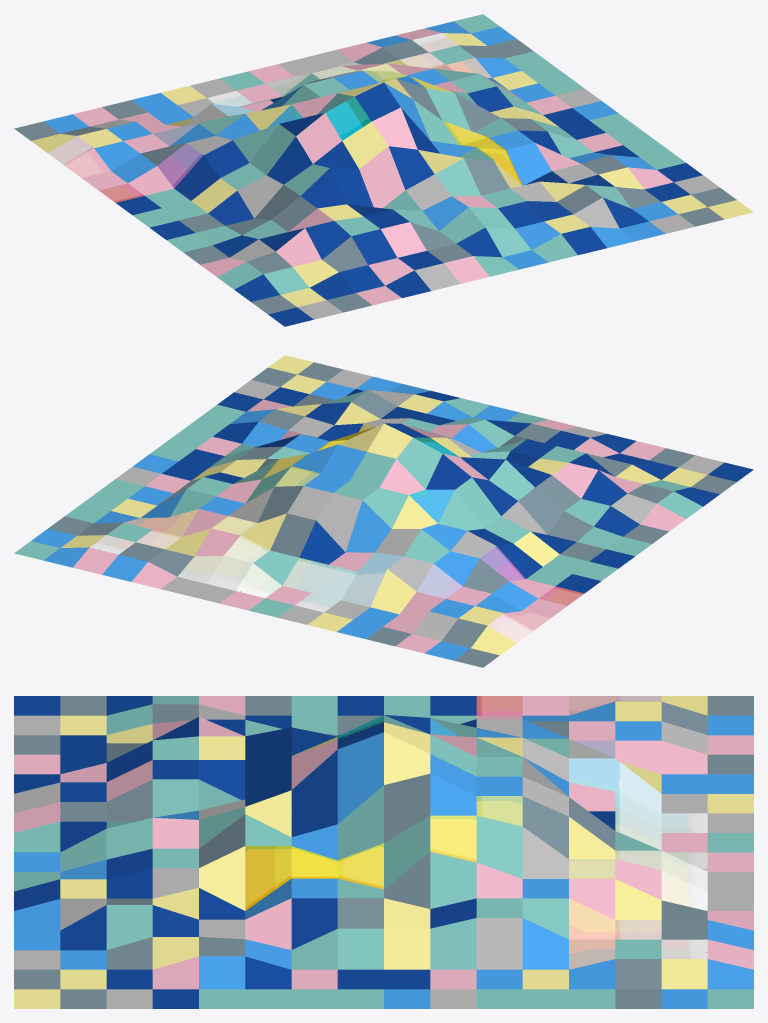
The model's file is terrain_level4.glb.
3 renders of one model, top to bottom at view 1: azimuth 30°, elevation 25°; view 2: azimuth 150°, elevation 25°; view 3: azimuth 270°, elevation 25°, orthographic. The views are drawn at different scales.
Visible parts, largest first — view 1: Plane; view 2: Plane; view 3: Plane.
Part boxes in pixels (left/top/right/bottom): Plane: left=14, top=14, right=753, bottom=326; Plane: left=14, top=355, right=753, bottom=667; Plane: left=14, top=696, right=753, bottom=1008.
Size of what is drawn, in the model's own units: 32 by 5.74 by 32.
1 material, 1 textured.
